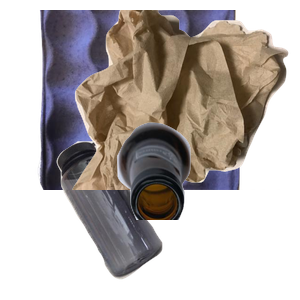glass: (115, 120, 300, 300)
paper: (35, 10, 268, 190)
plastic: (54, 136, 209, 300)
trash: (70, 10, 300, 190)
